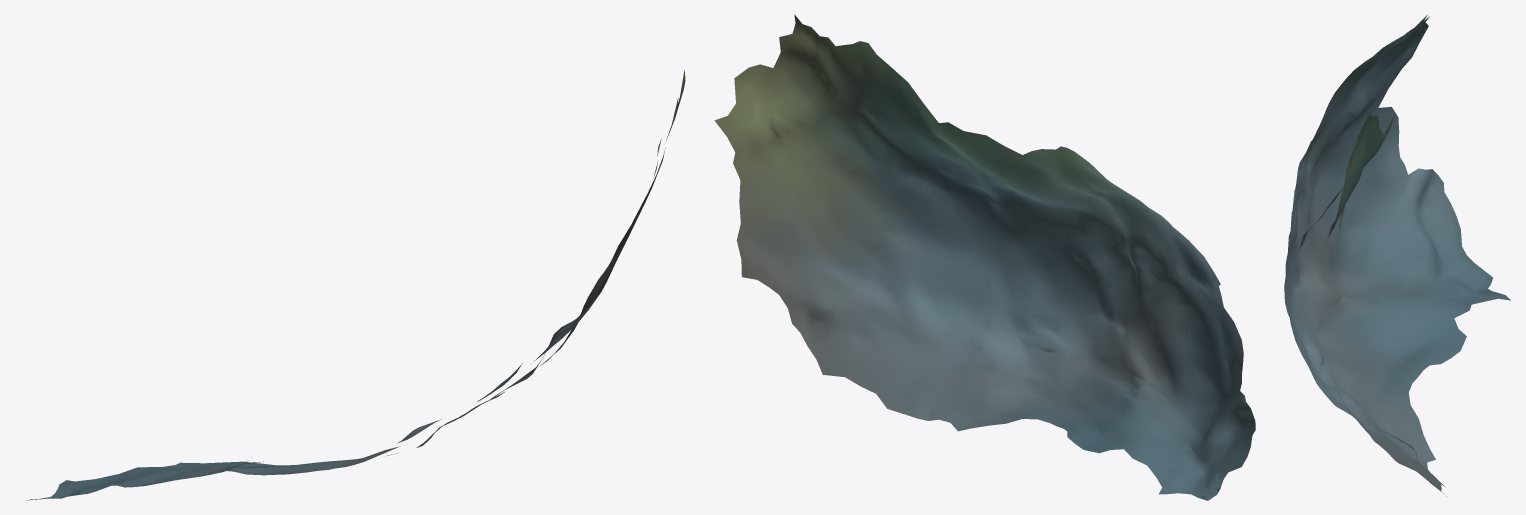
File: LODS_Cloud_global_16.glb
3 renders of one model, left to right at view 1: azimuth 30°, elevation 25°; view 2: azimuth 150°, elevation 25°; view 3: azimuth 270°, elevation 25°, orthographic. The views are drawn at different scales.
Parts seen in each view (by area): view 1: LOD0; view 2: LOD0; view 3: LOD0.
Part boxes in pixels (x1,y1,x2,y2): LOD0: (27,70,685,500); LOD0: (714,14,1255,500); LOD0: (1284,14,1511,496).
Size of what is drawn, in the model's own units: 0.3118 by 0.1891 by 0.0904.
